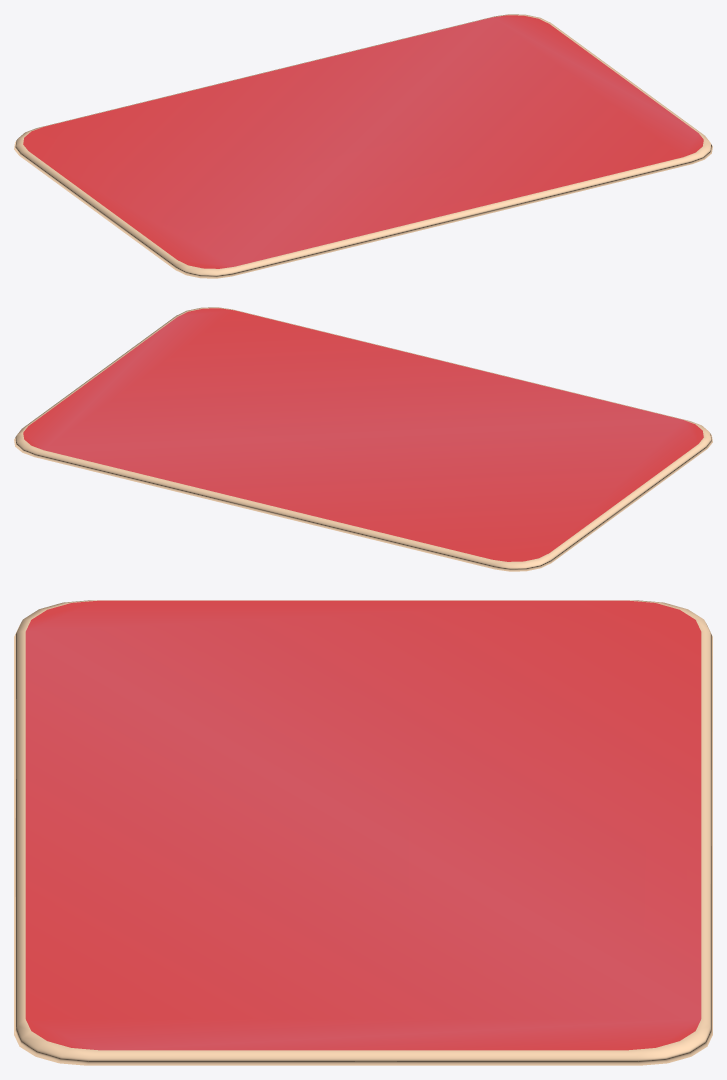
Rendered from Carpet_002.fbx.
3 renders of one model, top to bottom at view 1: azimuth 30°, elevation 25°; view 2: azimuth 150°, elevation 25°; view 3: azimuth 270°, elevation 25°, orthographic. The views are drawn at different scales.
Parts seen in each view (by area): view 1: Carpet_002; view 2: Carpet_002; view 3: Carpet_002.
Part boxes in pixels (x1,y1,x2,y2): Carpet_002: (14,14,712,278); Carpet_002: (14,307,712,571); Carpet_002: (14,600,712,1065).
Bounding box in the file's own units: 2.8 × 0.03 × 1.8.
